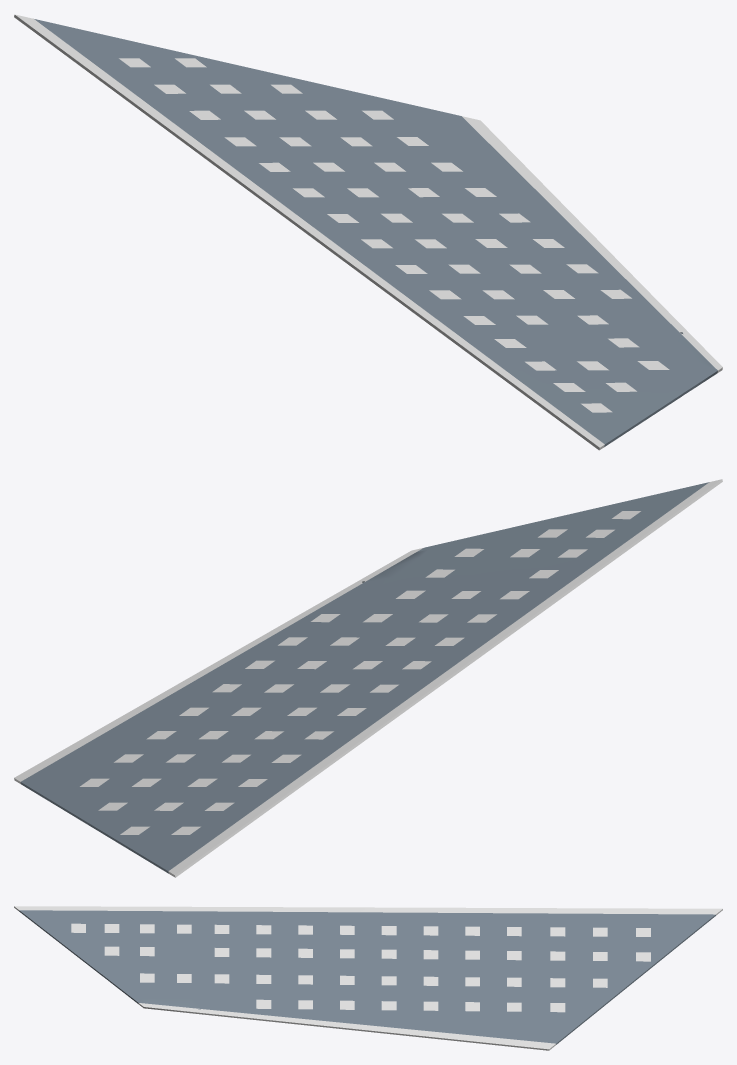
File: Roof.FBX
The picture shows the model from 3 angles, top to bottom: view 1: azimuth 30°, elevation 25°; view 2: azimuth 150°, elevation 25°; view 3: azimuth 270°, elevation 25°; orthographic projection. The views are drawn at different scales.
Parts seen in each view (by area): view 1: Plane552, Roof2, Plane553, Roof-E2; view 2: Plane552, Roof2, Plane553, Roof-E2; view 3: Plane552, Roof2, Plane553, Roof-E2.
Part boxes in pixels (x1,y1,x2,y2): Plane552: [34, 19, 717, 446]; Roof2: [14, 14, 722, 450]; Plane553: [451, 163, 679, 332]; Roof-E2: [442, 163, 688, 333]; Plane552: [20, 482, 709, 873]; Roof2: [14, 479, 722, 877]; Plane553: [103, 582, 420, 738]; Roof-E2: [92, 582, 414, 738]; Plane552: [19, 910, 715, 1044]; Roof2: [14, 906, 722, 1050]; Plane553: [201, 979, 477, 1035]; Roof-E2: [199, 979, 479, 1042].
Bounding box in the file's own units: 369 × 88.2 × 1154.
